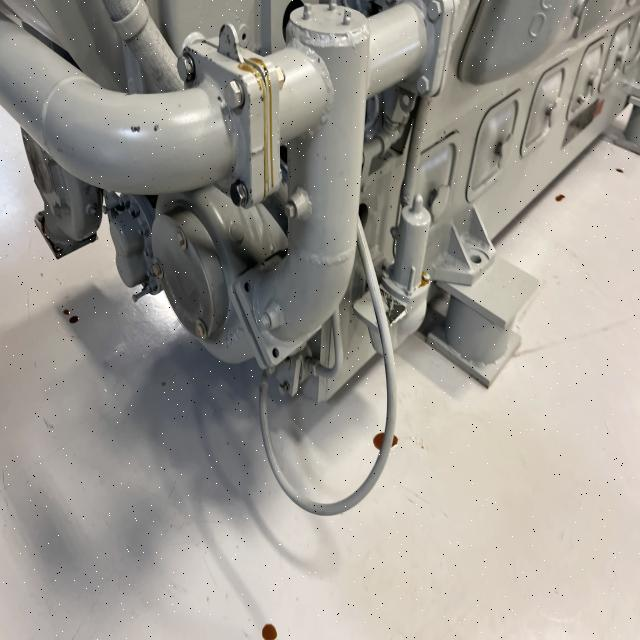Oil Leak: (236, 47, 286, 200), (371, 431, 384, 450), (262, 624, 277, 640), (68, 314, 80, 325), (391, 436, 399, 448), (63, 308, 70, 316)
